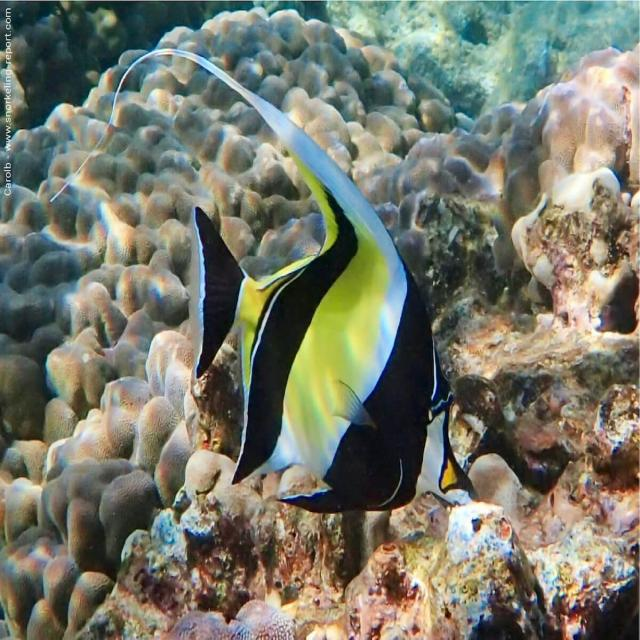MorishIdol: (104, 44, 482, 518)
